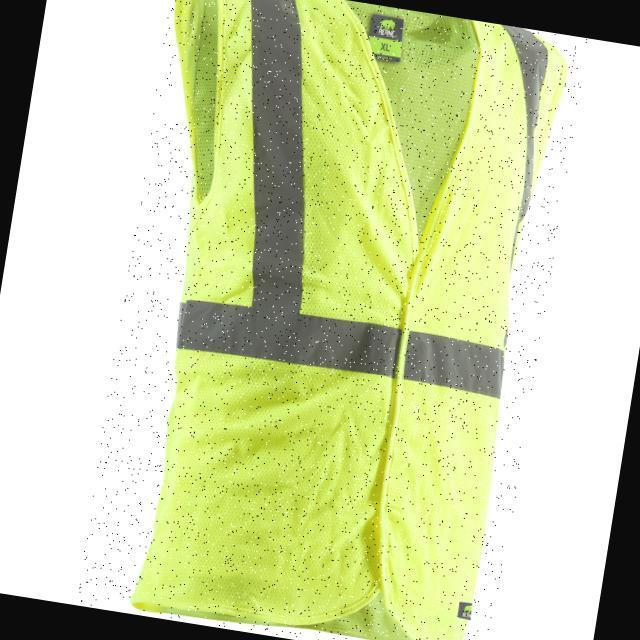vest: (75, 0, 588, 640)
